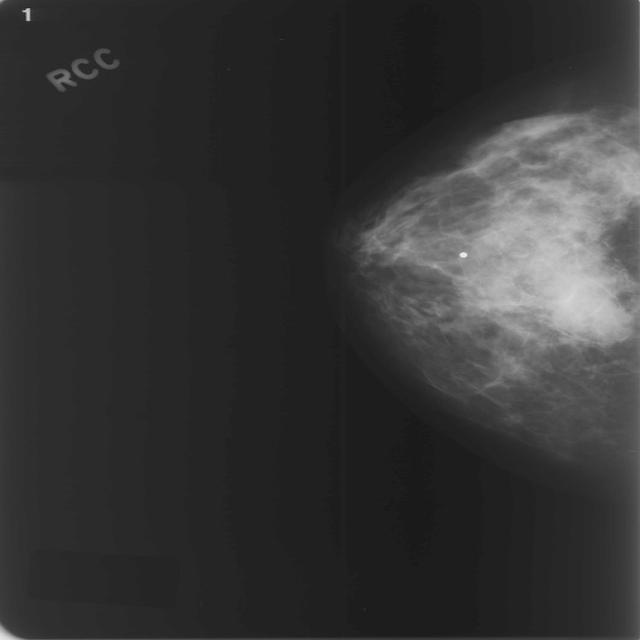tumour: (528, 251, 634, 346)
